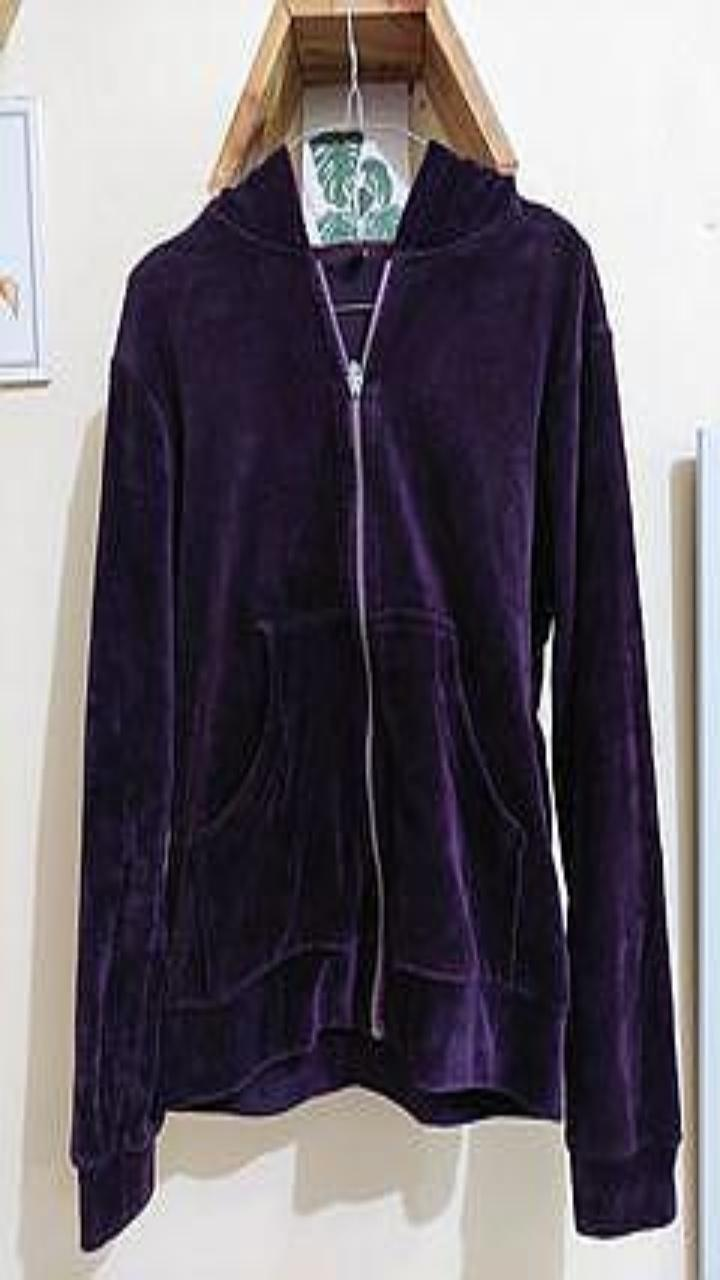Sports_Jacket: (71, 139, 680, 1249)
